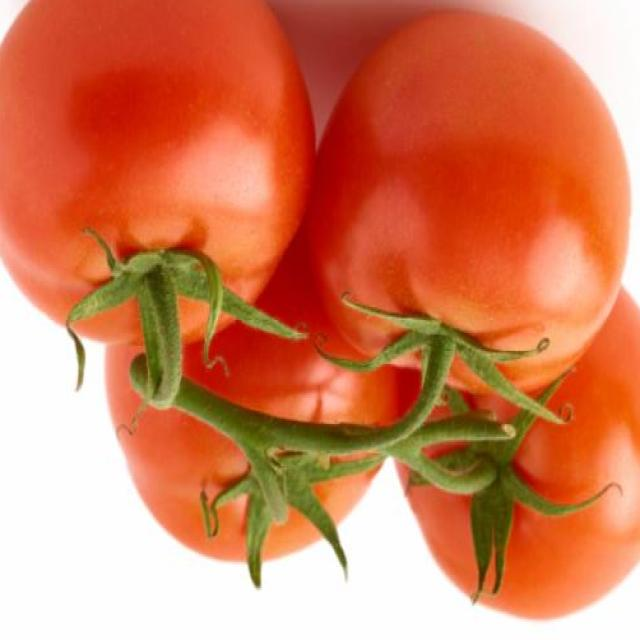Healthy: (322, 26, 634, 402), (0, 1, 292, 368), (113, 310, 414, 576), (372, 352, 640, 626)
